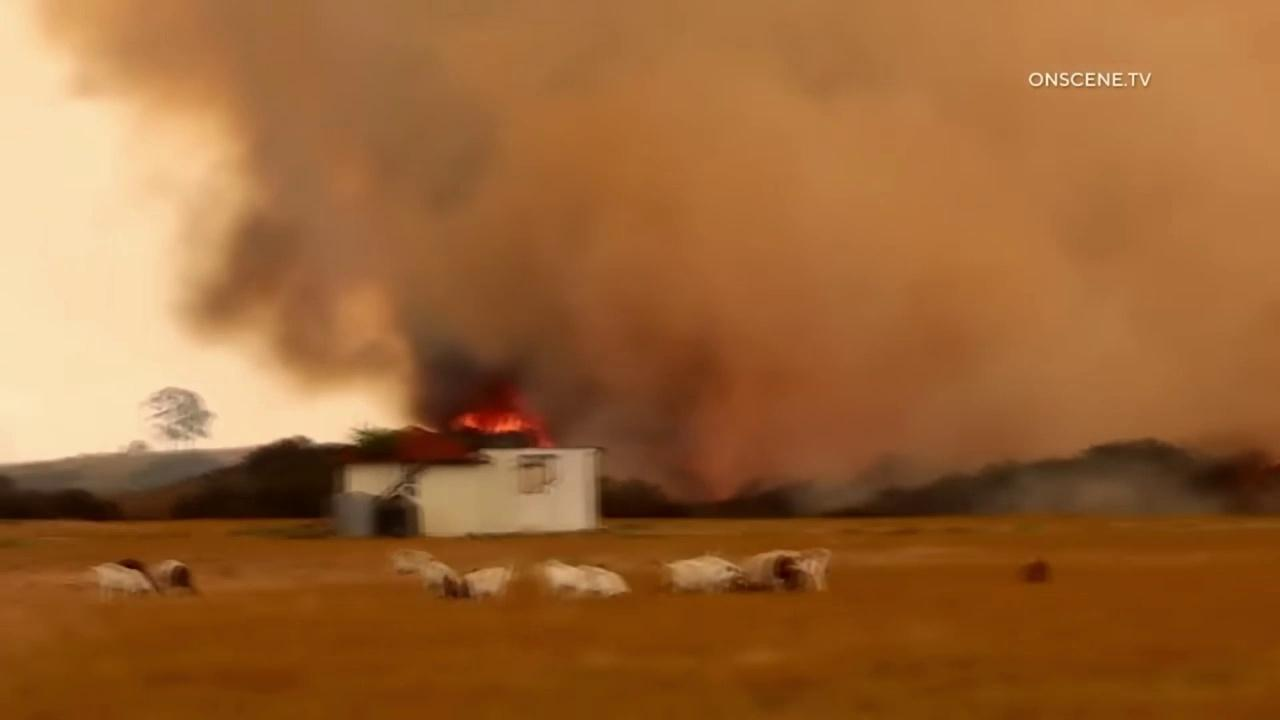fire: (447, 381, 556, 447)
smoke: (23, 0, 1280, 517)
